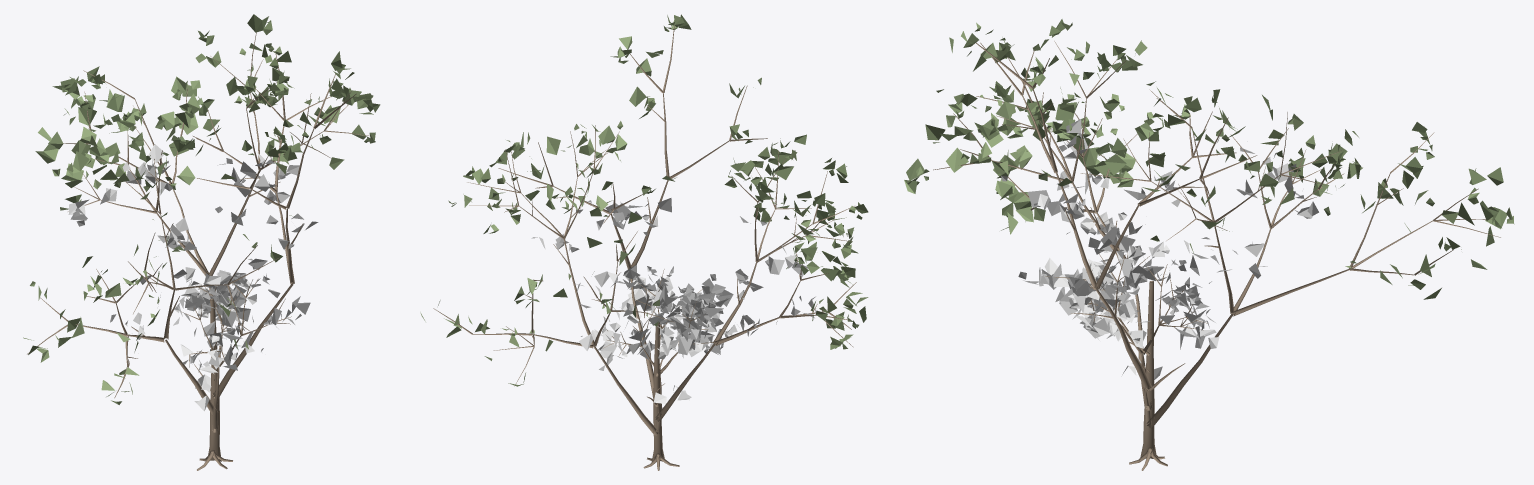
Rendered from tree-a.glb.
3 views of the same model, side by side, from view 1: azimuth 30°, elevation 25°; view 2: azimuth 150°, elevation 25°; view 3: azimuth 270°, elevation 25° (orthographic). The views are drawn at different scales.
Visible parts, largest first — view 1: leaf, wood, leafDeep; view 2: leaf, leafDeep, wood; view 3: leaf, leafDeep, wood.
Part boxes in pixels (left/top/right/bottom): leaf: left=23, top=14, right=380, bottom=404; wood: left=27, top=32, right=369, bottom=470; leafDeep: left=68, top=144, right=318, bottom=411; leaf: left=420, top=14, right=868, bottom=386; leafDeep: left=531, top=190, right=827, bottom=403; wood: left=433, top=25, right=856, bottom=470; leaf: left=904, top=19, right=1514, bottom=299; leafDeep: left=1001, top=119, right=1318, bottom=380; wood: left=933, top=41, right=1500, bottom=470.
Size of the model in its own units: 19.55 by 20.04 by 23.93.
